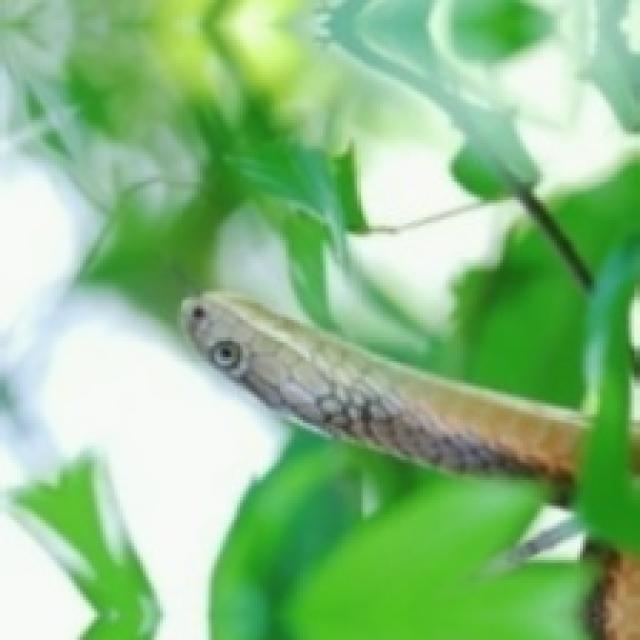king cobra: (180, 291, 586, 480)
